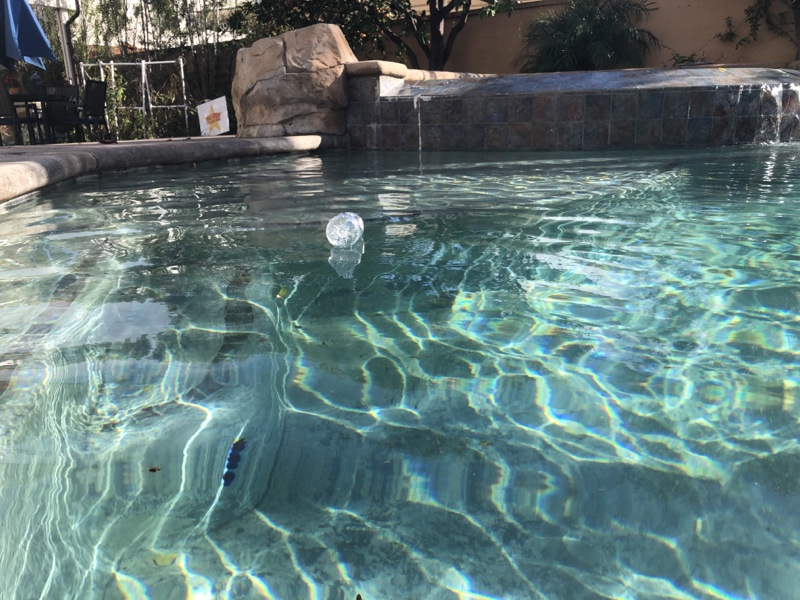Plastic Bottle: (324, 213, 365, 249)
